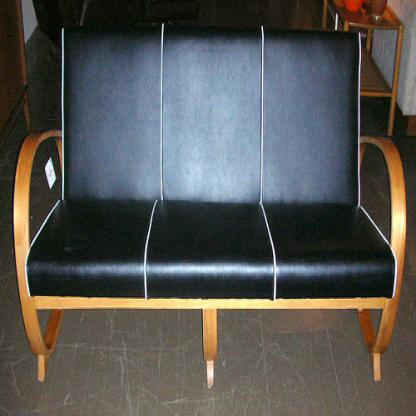sofa: (12, 23, 406, 382)
